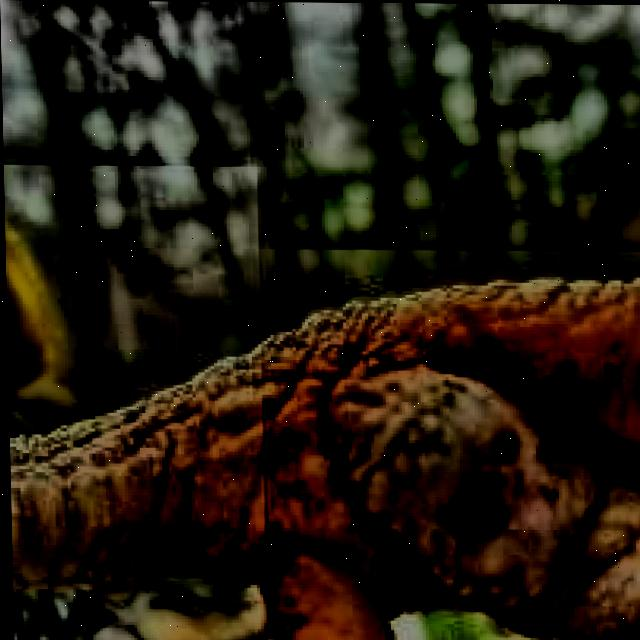Bumble foot: (4, 247, 640, 640)
